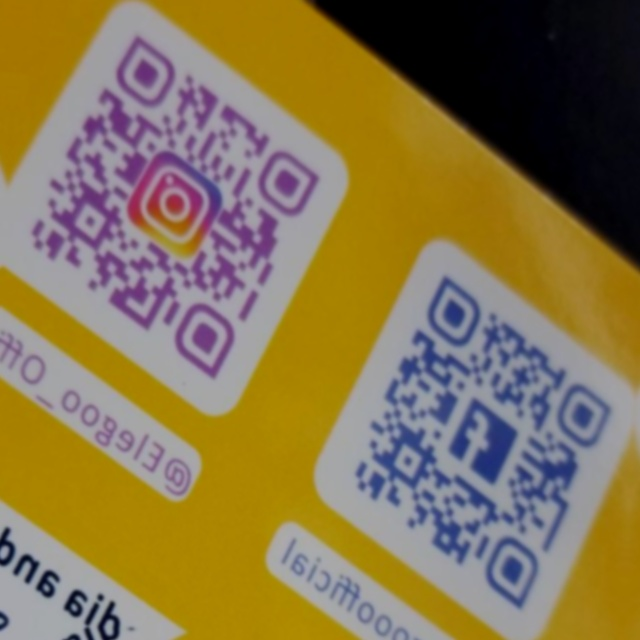qr-code: (11, 22, 337, 405), (343, 261, 627, 634)
